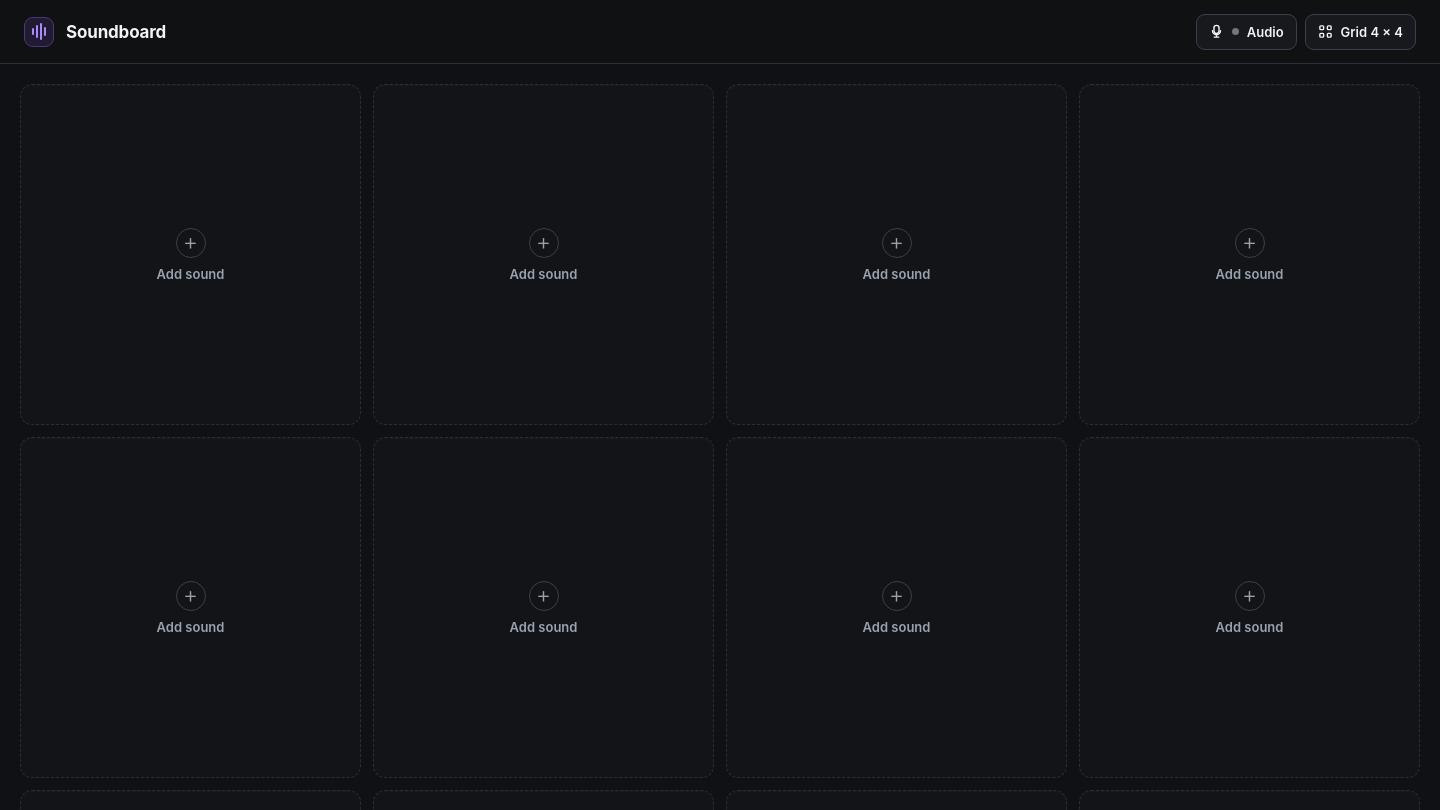
Soundboard › configures and stops virtual-microphone routing from the Audio dialog
Click the button "Audio".
click(1246, 32)  # box [1196,14,1297,50]
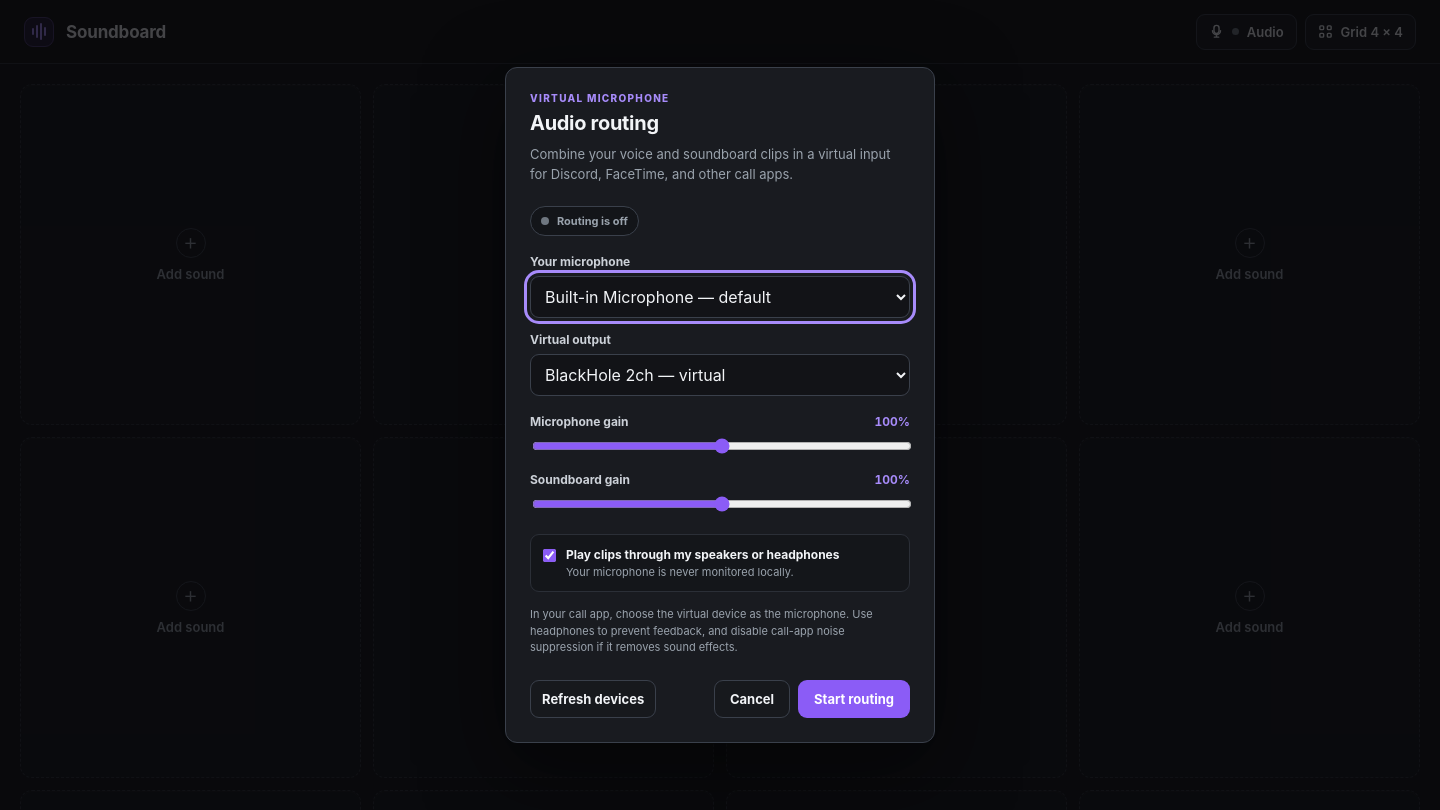
Now the dropdown labelled "Your microphone" shows "Built-in Microphone — default", box [530,276,910,318]
Now the dropdown labelled "Virtual output" shows "BlackHole 2ch — virtual", box [530,354,910,396]
Set the slider named "Microphone gain" to "85" at (695,446), box [532,438,912,454]
Set the slider named "Soundboard gain" to "120" at (758,504), box [532,496,912,512]
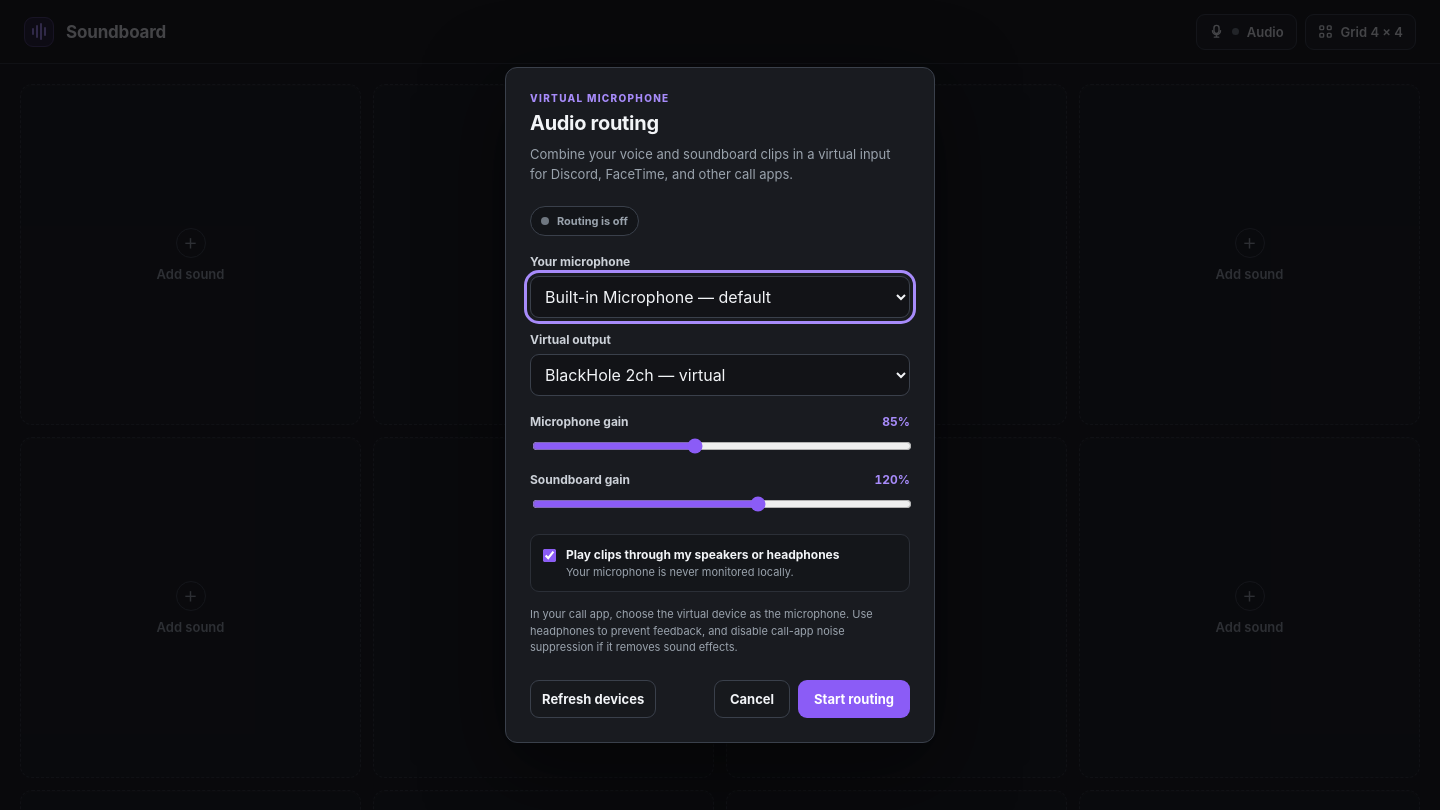
Click the button "Start routing".
click(854, 699)  # box [798,680,910,718]
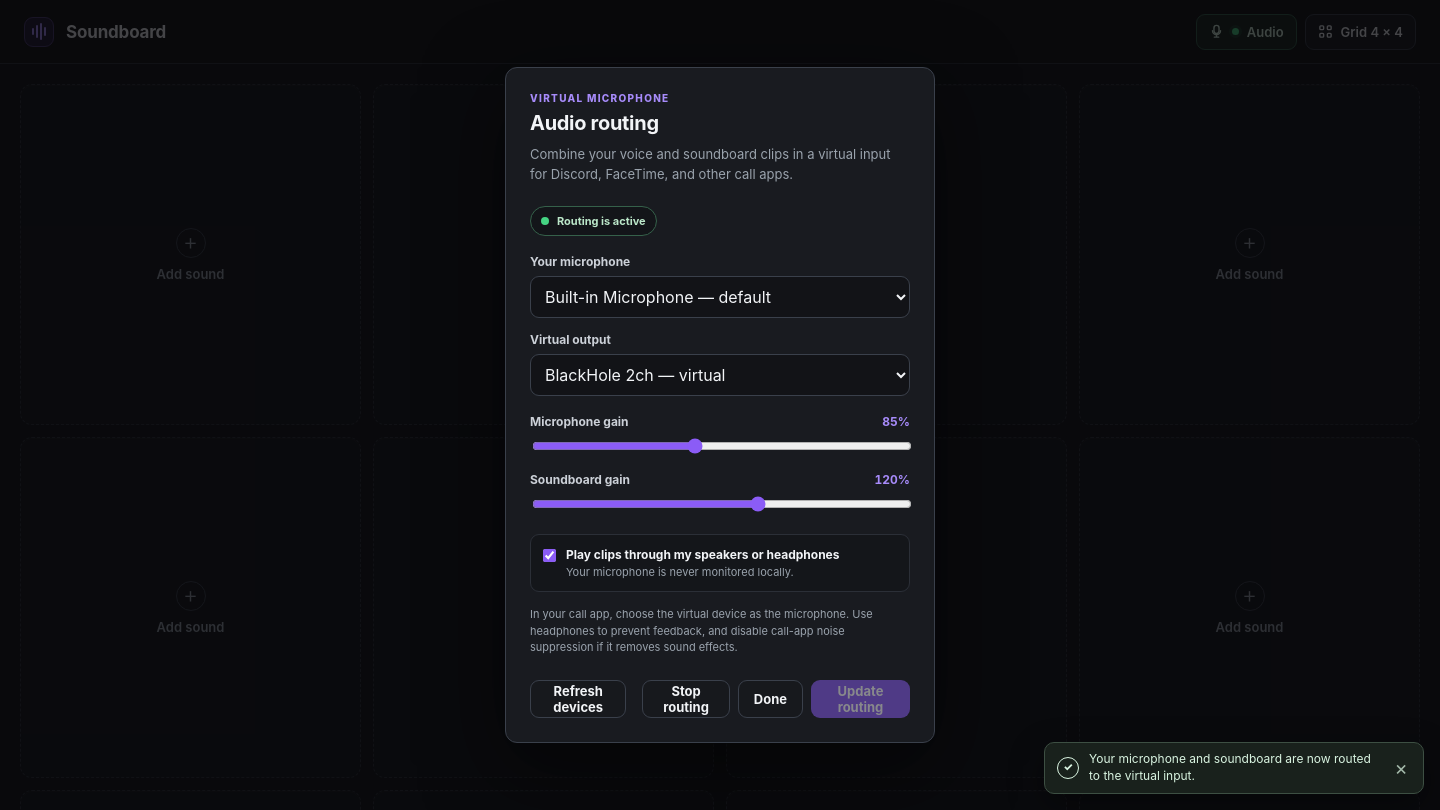
Now the text "Routing is active" is shown, box [557,214,646,228]
Click the button "Done".
click(770, 699)  # box [738,680,803,718]
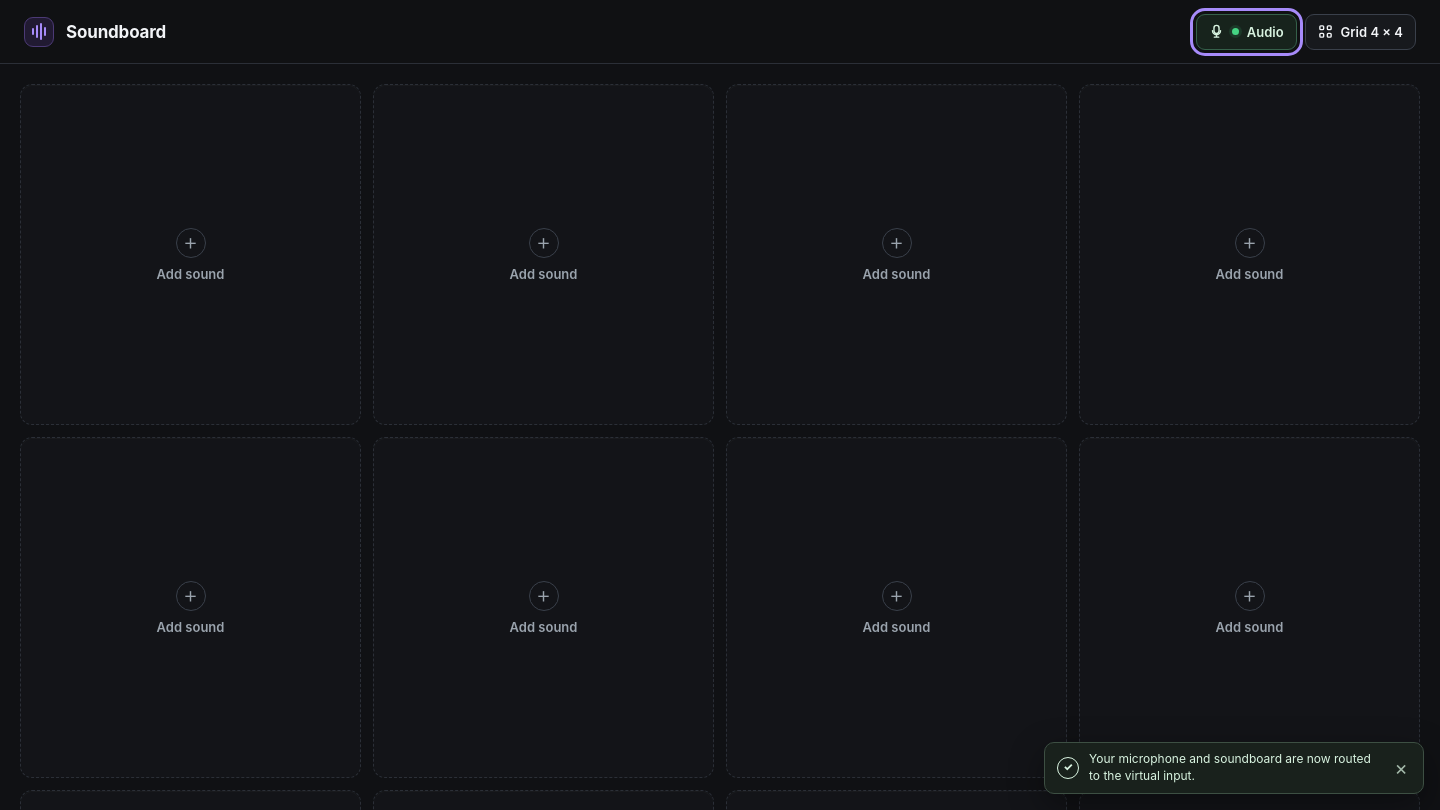
Now the heading "Audio routing" is gone
Click the button "Audio".
click(1246, 32)  # box [1196,14,1297,50]
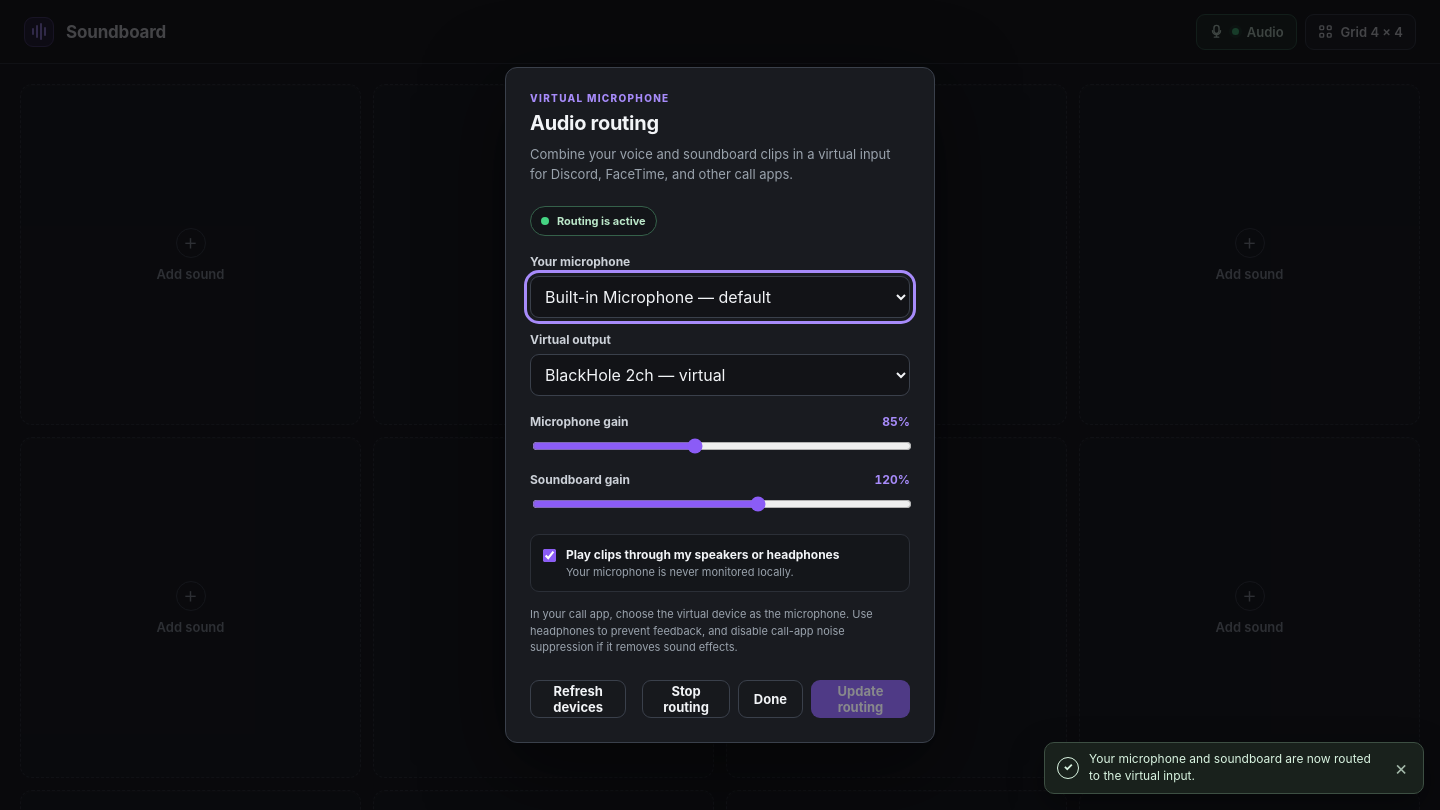
Now the text "Routing is active" is shown, box [557,214,646,228]
Click the button "Stop routing".
click(686, 699)  # box [642,680,730,718]
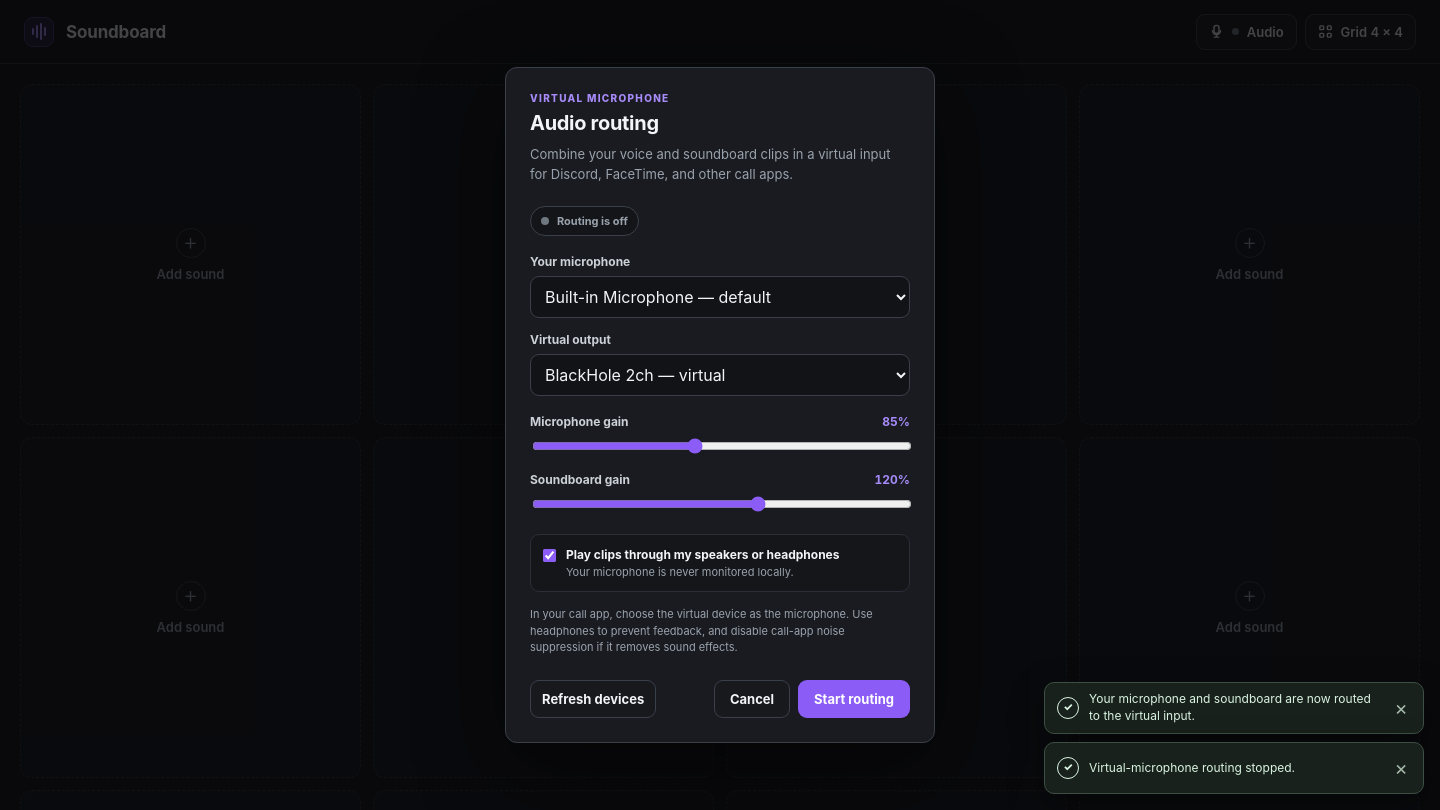
Now the text "Routing is off" is shown, box [557,214,628,228]
